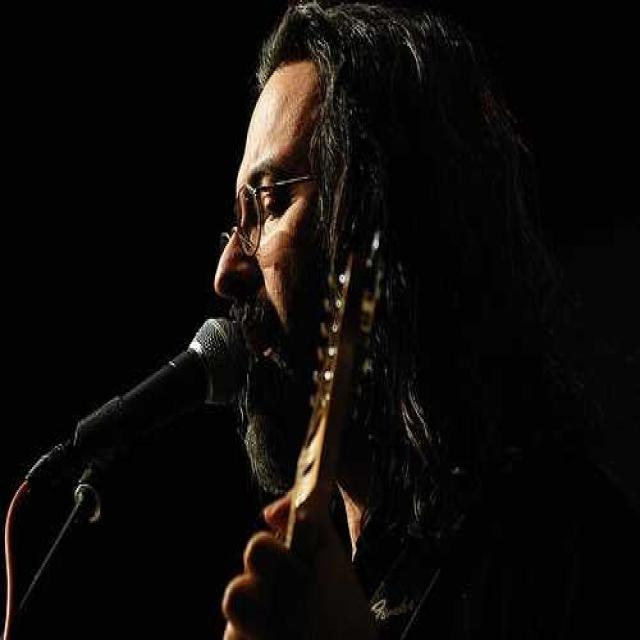microphone: (23, 302, 264, 515)
